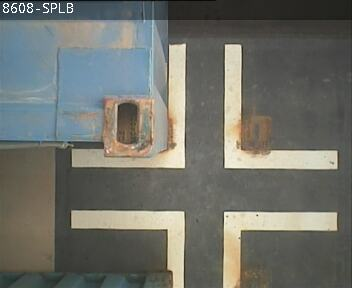groundmarker_1: (70, 45, 336, 169), (71, 209, 337, 288)
